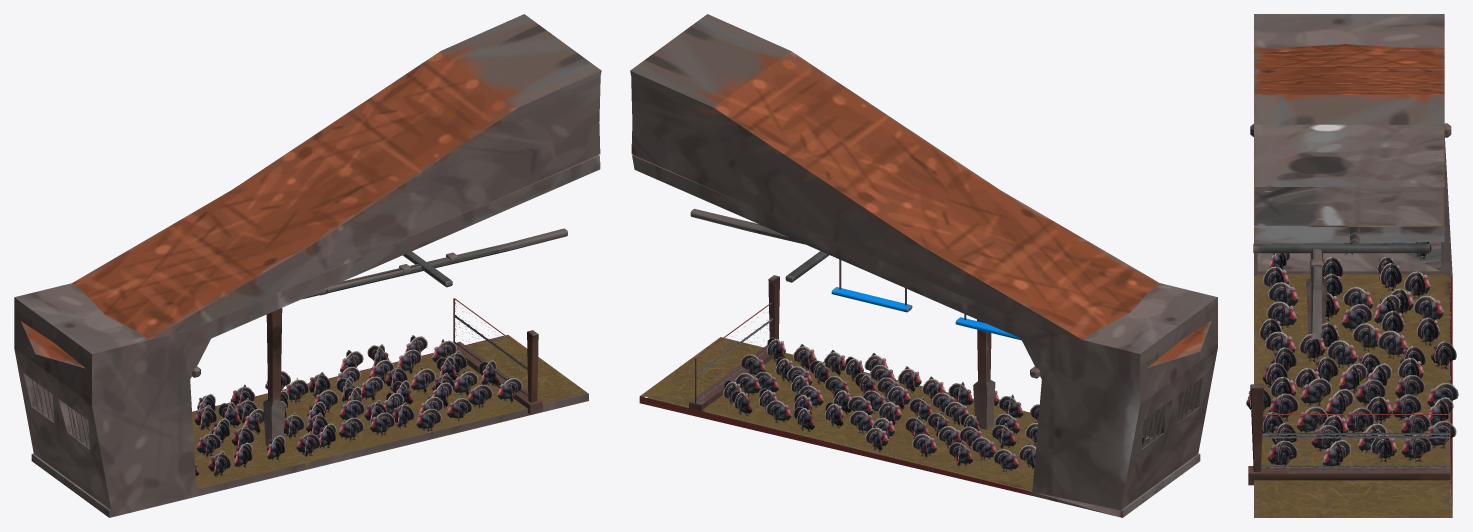
The model's file is chickenroom_left.obj.
The picture shows the model from 3 angles, left to right: view 1: azimuth 30°, elevation 25°; view 2: azimuth 150°, elevation 25°; view 3: azimuth 270°, elevation 25°; orthographic projection. The views are drawn at different scales.
Parts seen in each view (by area): view 1: pPlane260; view 2: pPlane260; view 3: pPlane260.
Part boxes in pixels (x1=…): pPlane260: x1=14, y1=14, x2=601, y2=517; pPlane260: x1=630, y1=14, x2=1217, y2=517; pPlane260: x1=1246, y1=14, x2=1458, y2=517.
Bounding box in the file's own units: 47.19 × 28.14 × 13.35.
1 material, 1 textured.
